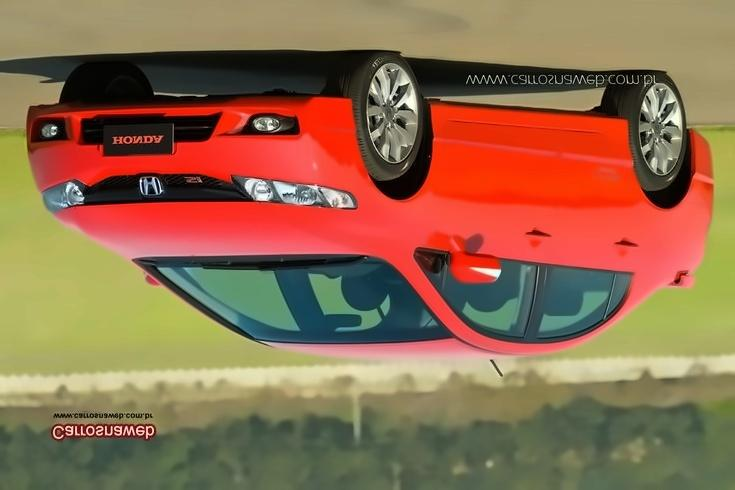Car hood: (43, 202, 391, 269)
Driver-s door - -F-R-: (419, 86, 552, 361)
Front bumper: (16, 99, 335, 184)
Headlight - -L-: (39, 175, 89, 221)
Headlight - -R-: (229, 171, 359, 210)
Passenger-s door - -R-R-: (529, 102, 656, 356)
Rear bumper: (682, 119, 721, 224)
Side bumper - -R-: (431, 87, 631, 160)
Side mirror - -R-: (440, 245, 507, 290)
